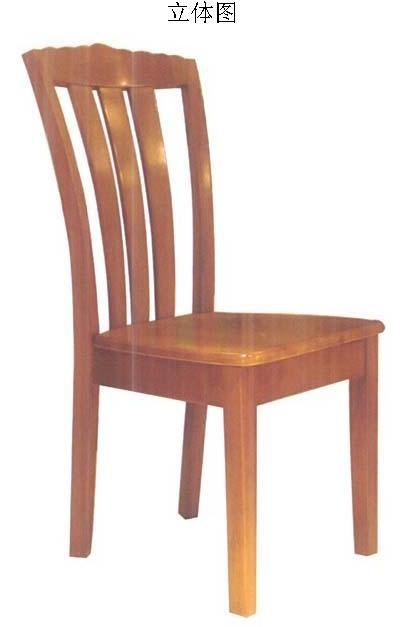obstacle: (23, 44, 383, 615)
